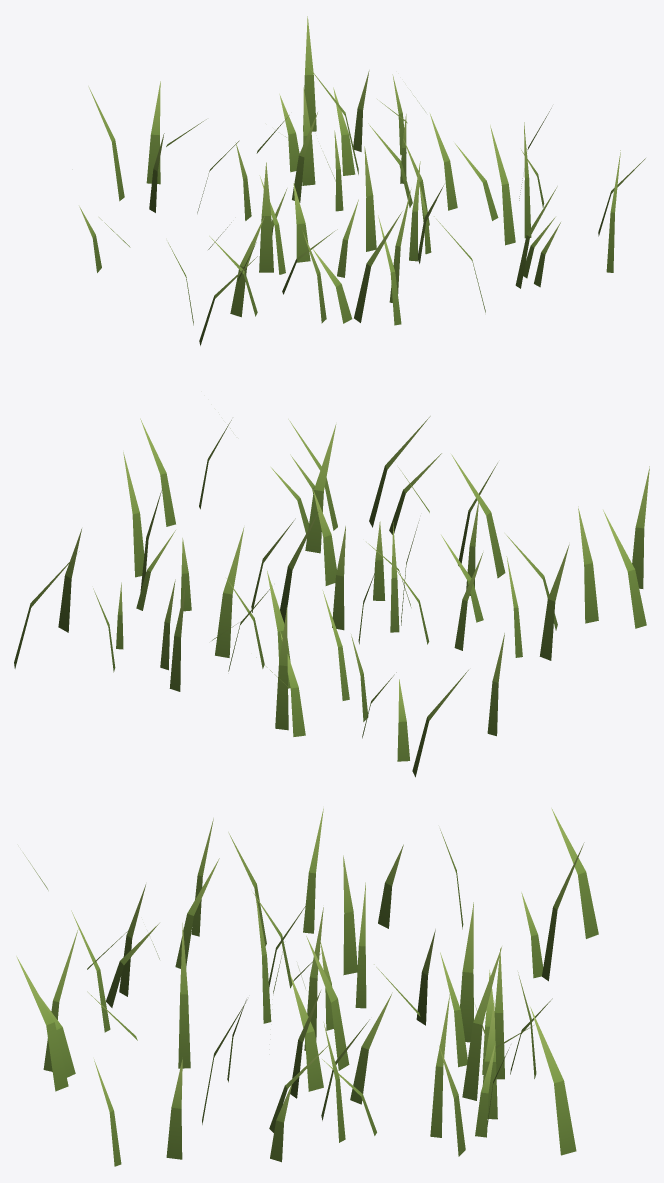
Rendered from WoodlandGrass_2.glb.
The picture shows the model from 3 angles, top to bottom: view 1: azimuth 30°, elevation 25°; view 2: azimuth 150°, elevation 25°; view 3: azimuth 270°, elevation 25°; orthographic projection. The views are drawn at different scales.
Parts seen in each view (by area): view 1: WoodlandGrass_2; view 2: WoodlandGrass_2; view 3: WoodlandGrass_2.
Part boxes in pixels (x1=…): WoodlandGrass_2: x1=79, y1=16, x2=645, y2=345; WoodlandGrass_2: x1=14, y1=416, x2=649, y2=777; WoodlandGrass_2: x1=16, y1=808, x2=598, y2=1166.
Size of the model in its own units: 1.57 by 0.3473 by 1.5.
